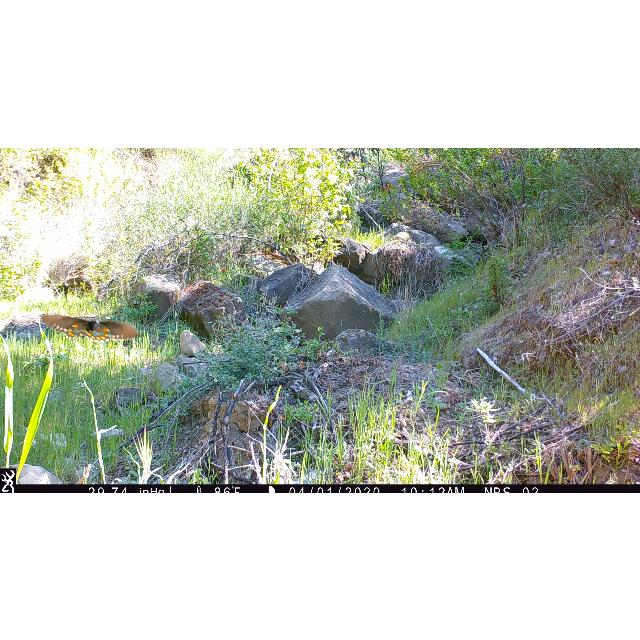animals: (39, 312, 141, 342)
